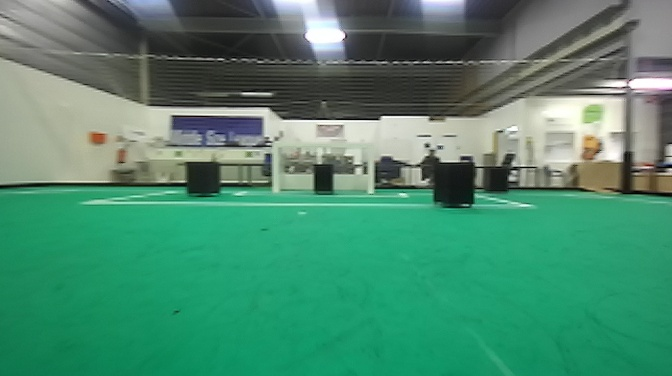goalpost: (360, 139, 379, 191), (269, 143, 283, 195)
